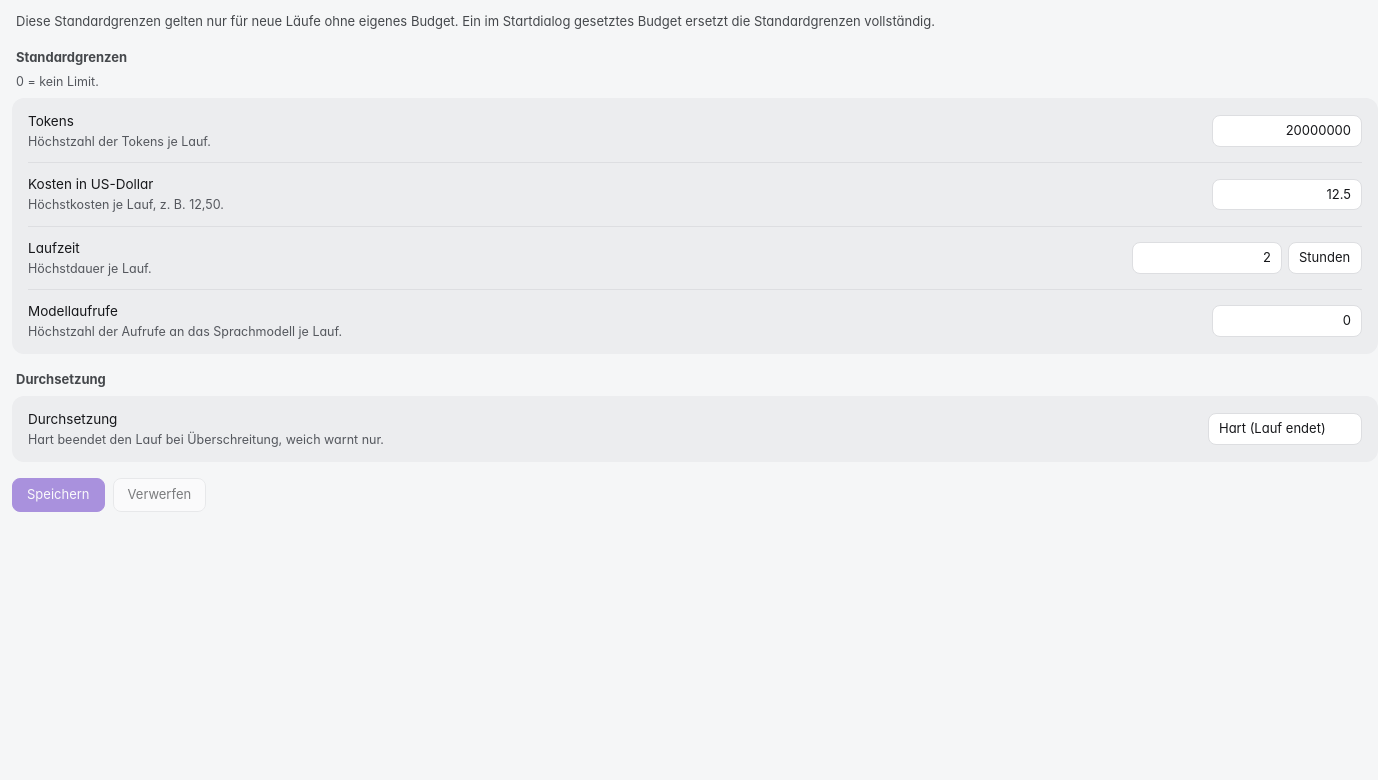
Test: SectionBudgets › zeigt Validierungsfehler der API am Feld und die Gesamtmeldung
Replace the text in the field with id "budget-tokens" with "5" at (1287, 131), box 1212,115 -> 1362,147
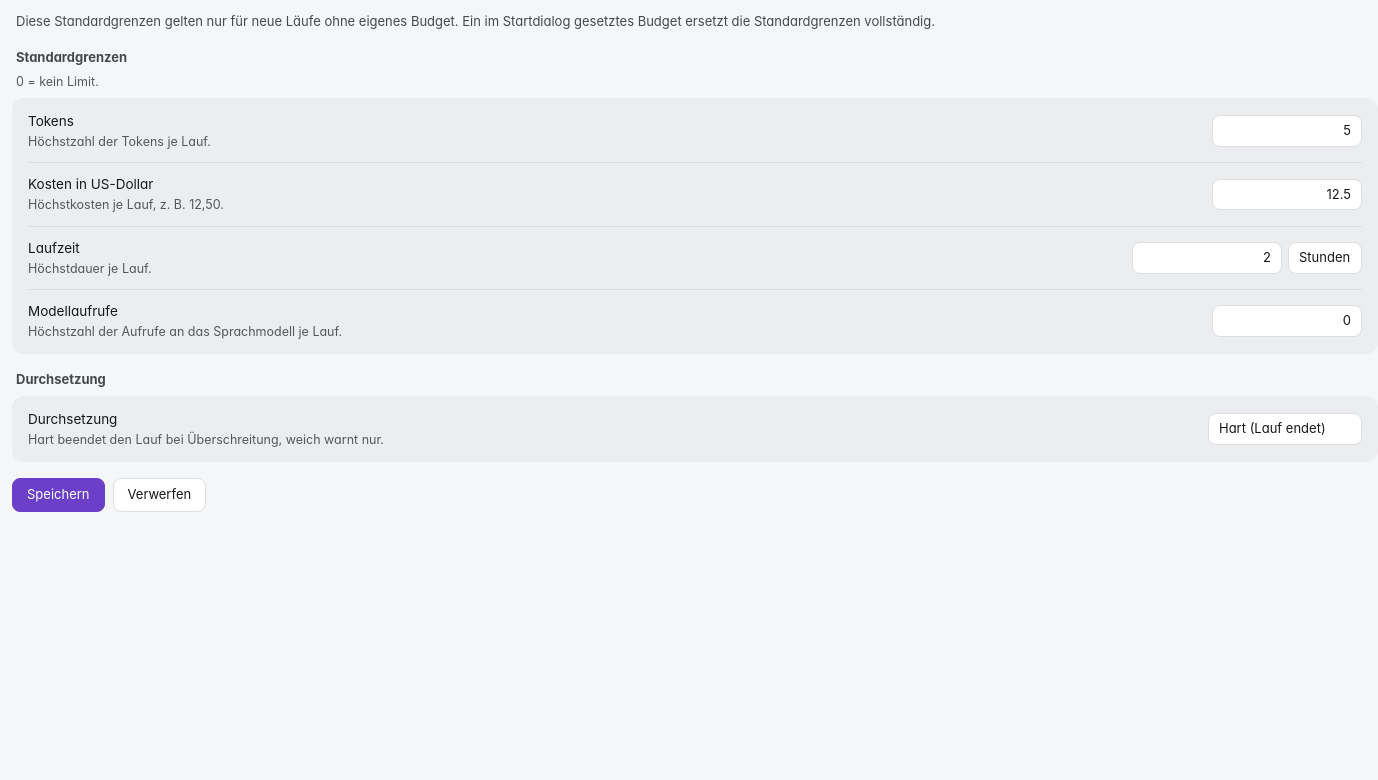
Submit the form, box 12,48 -> 1377,512
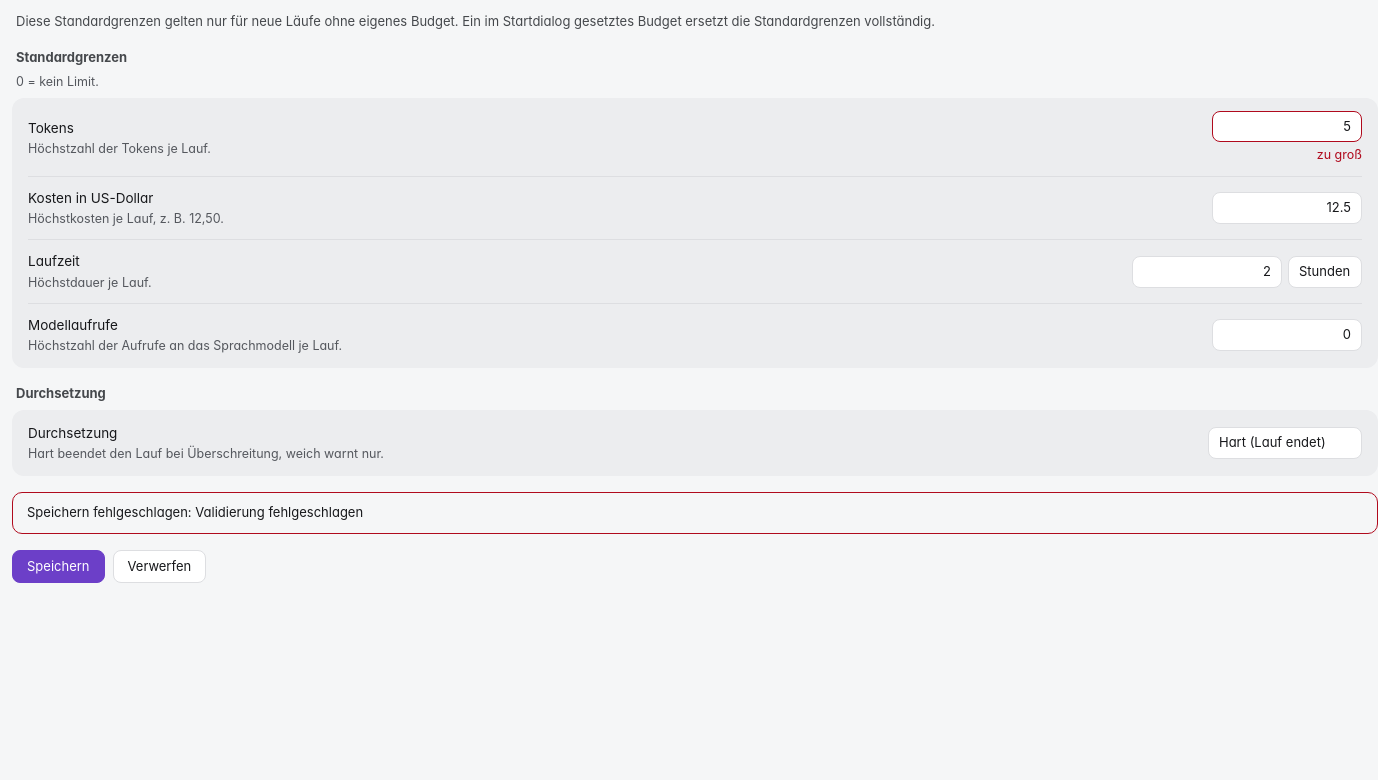
Check: the message with id "budget-tokens-err" reads "zu groß", box 1317,147 -> 1362,162
Check: the text "Speichern fehlgeschlagen: Validierung fehlgeschlagen" is shown, box 12,492 -> 1377,534
